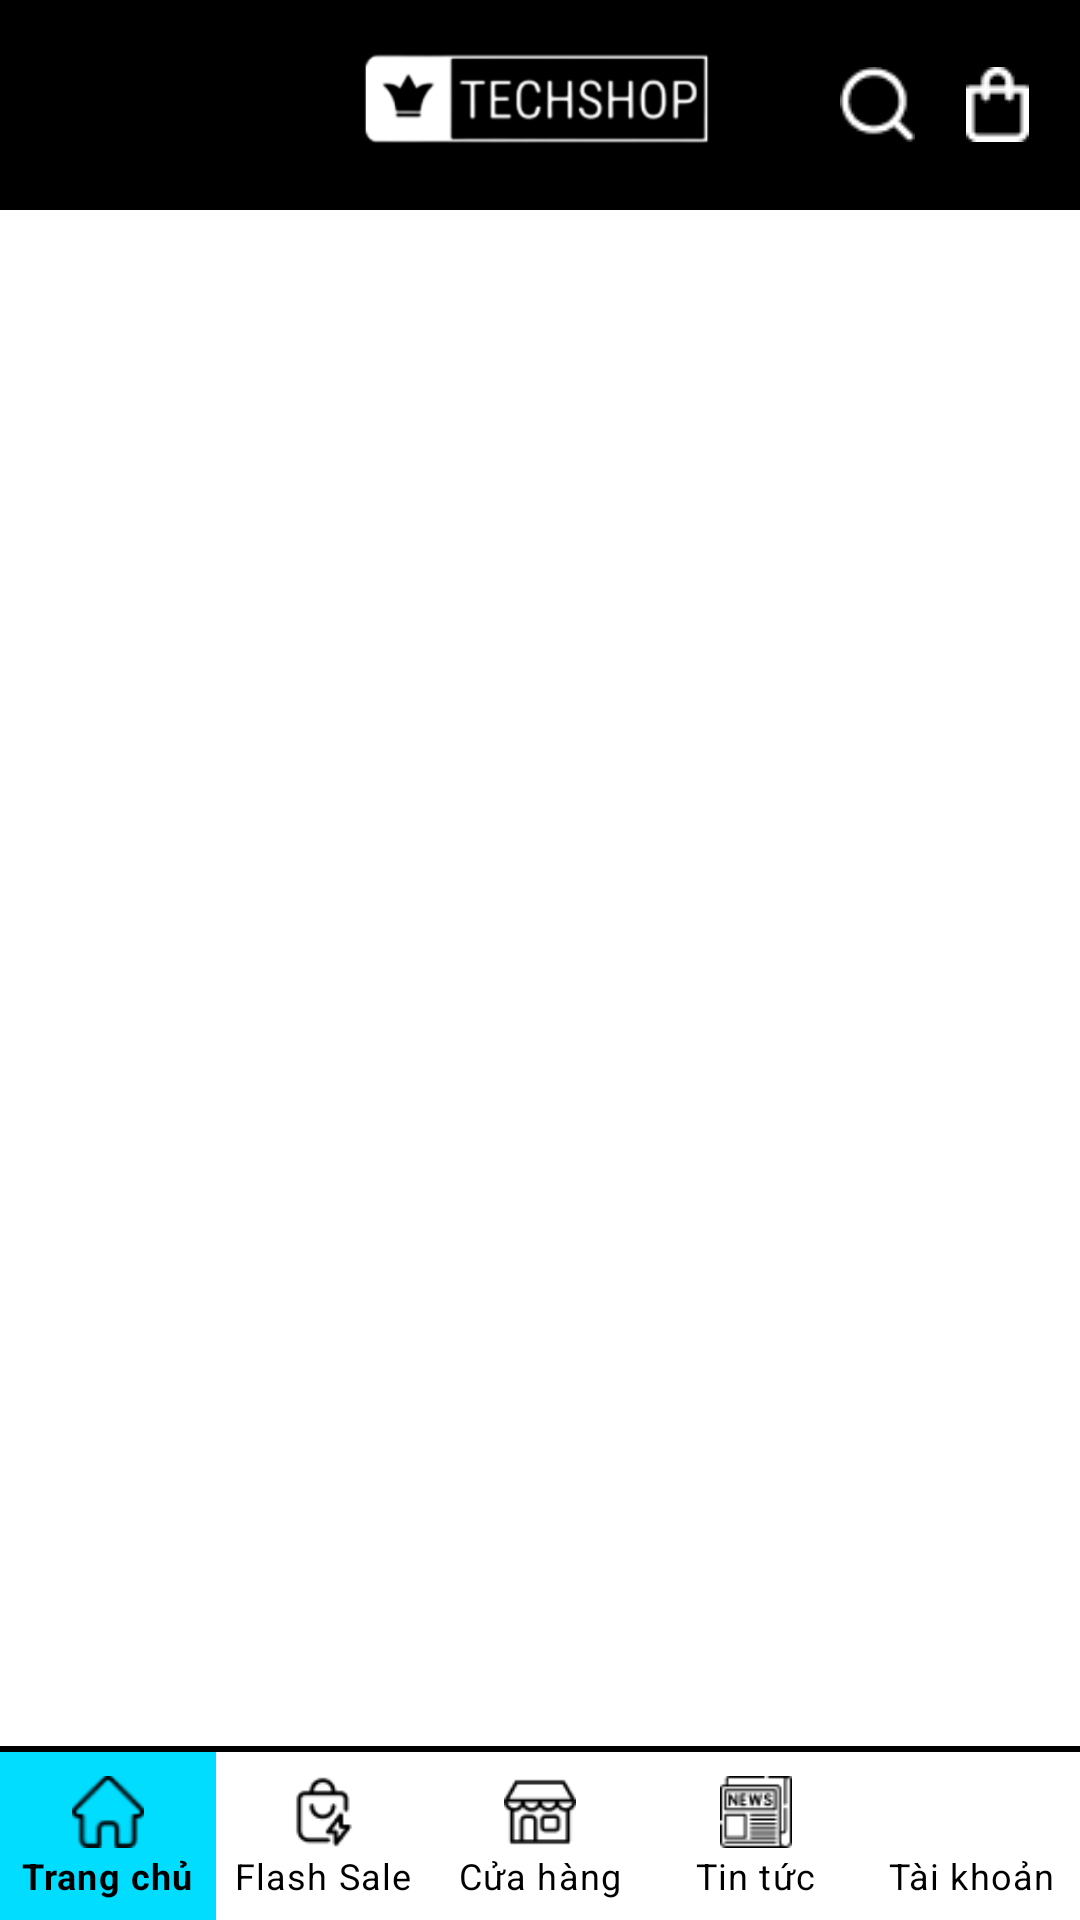

Locate icon controls on the screen. Image size 1080w x 1920h, boxes as [left=x1, top=y1, right=x2, bottom=y2].
cart: [left=966, top=67, right=1029, bottom=142]
search: [left=840, top=67, right=915, bottom=142]
